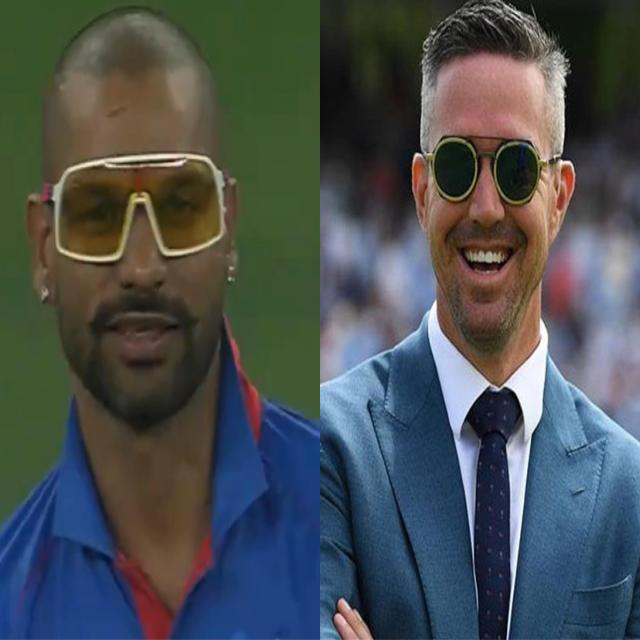Goggles: (47, 154, 236, 262), (431, 126, 544, 210)
